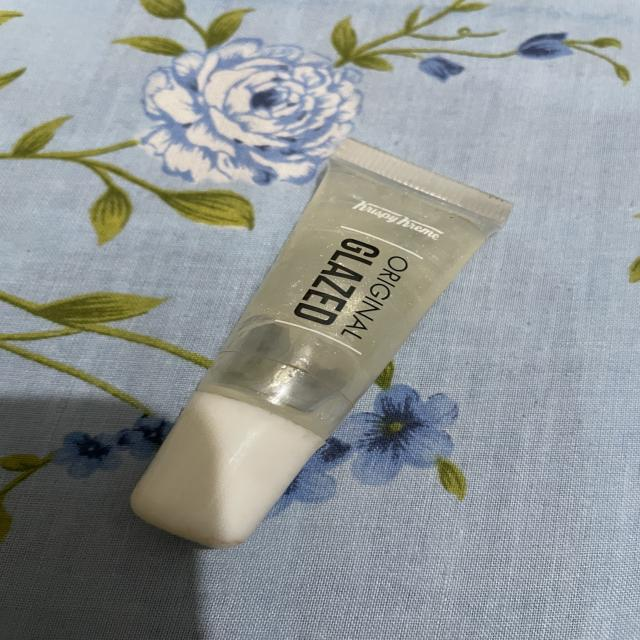lip balm: (101, 123, 534, 560)
